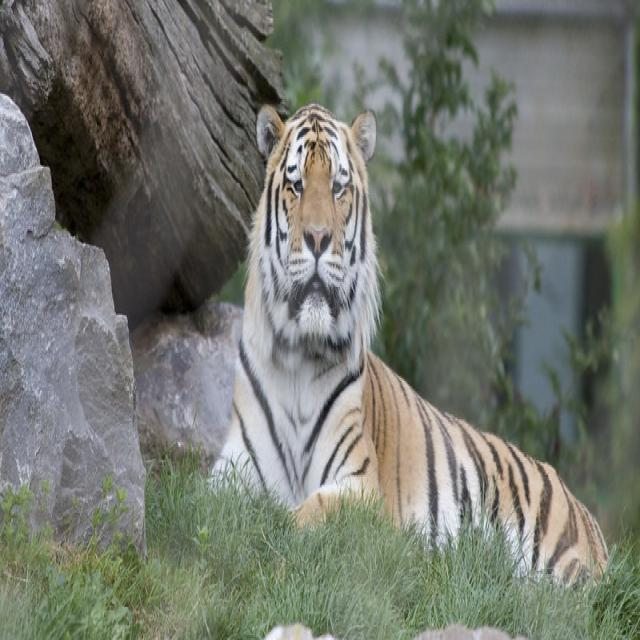Tiger: (221, 100, 612, 590)
